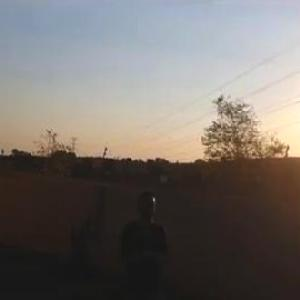follow: (107, 185, 173, 299)
